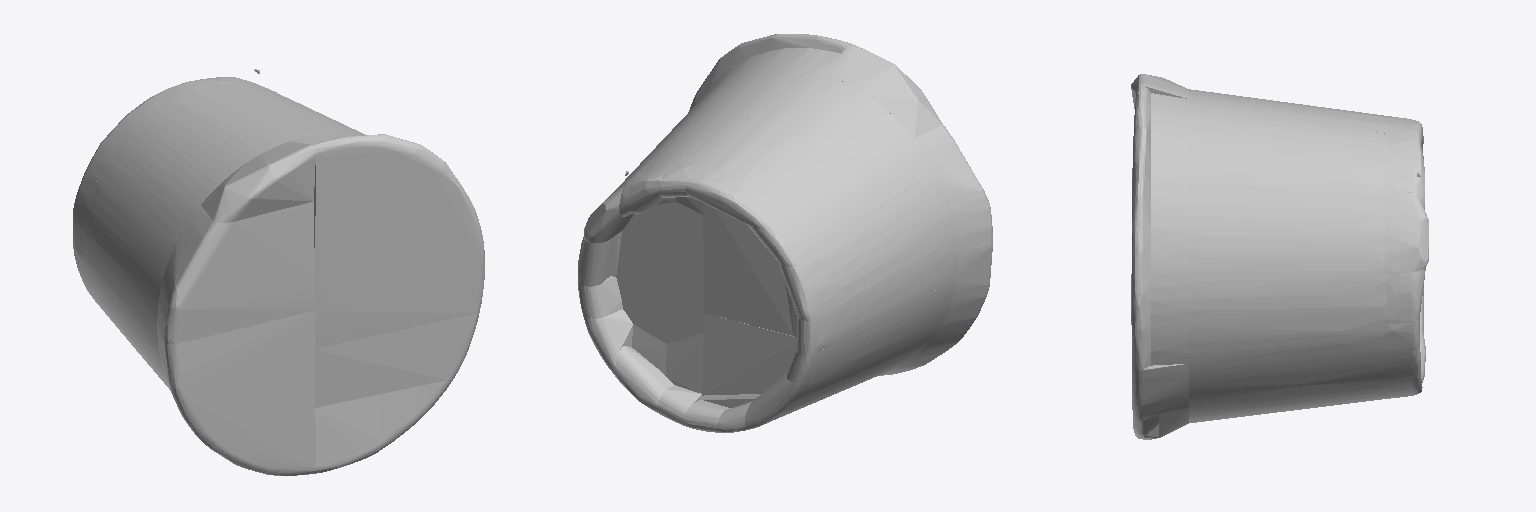
File: coacd_collision.obj
The picture shows the model from 3 angles: view 1: azimuth 30°, elevation 25°; view 2: azimuth 150°, elevation 25°; view 3: azimuth 270°, elevation 25°; orthographic projection.
Parts seen in each view (by area): view 1: geometry_5, geometry_8, geometry_0, geometry_4, geometry_3, geometry_2, geometry_15, geometry_1, geometry_7, geometry_31, geometry_18, geometry_30 (+2 smaller); view 2: geometry_8, geometry_1, geometry_7, geometry_4, geometry_2, geometry_0, geometry_18, geometry_5, geometry_29, geometry_30, geometry_12, geometry_6 (+15 smaller); view 3: geometry_1, geometry_6, geometry_5, geometry_8, geometry_16, geometry_3, geometry_33, geometry_14, geometry_37, geometry_11, geometry_2, geometry_18 (+2 smaller).
Part boxes in pixels (x1,y1,x2,y2): geometry_5: (313,134,484,348); geometry_8: (84,86,312,344); geometry_0: (157,311,315,475); geometry_4: (157,201,314,343); geometry_3: (315,312,479,407); geometry_2: (201,141,315,222); geometry_15: (314,394,382,473); geometry_1: (217,85,364,135); geometry_7: (85,267,170,390); geometry_31: (380,386,419,449); geometry_18: (114,80,212,140); geometry_30: (73,165,97,229); geometry_8: (703,69,957,344); geometry_1: (616,67,800,343); geometry_7: (702,279,956,416); geometry_4: (914,123,992,257); geometry_2: (826,44,941,137); geometry_0: (879,245,992,375); geometry_18: (686,165,792,229); geometry_5: (689,34,850,110); geometry_29: (615,346,673,412); geometry_30: (779,258,829,320); geometry_12: (745,371,821,429); geometry_6: (702,48,840,97); geometry_1: (1189,111,1384,422); geometry_6: (1151,93,1188,365); geometry_5: (1131,86,1150,369); geometry_8: (1189,89,1386,133); geometry_16: (1385,189,1428,273); geometry_3: (1132,364,1188,417); geometry_33: (1387,268,1425,323); geometry_14: (1385,348,1420,393); geometry_37: (1388,151,1424,195); geometry_11: (1385,319,1419,351); geometry_2: (1131,74,1188,108); geometry_18: (1387,116,1422,141).
Bounding box in the file's own units: 138 × 138 × 113.